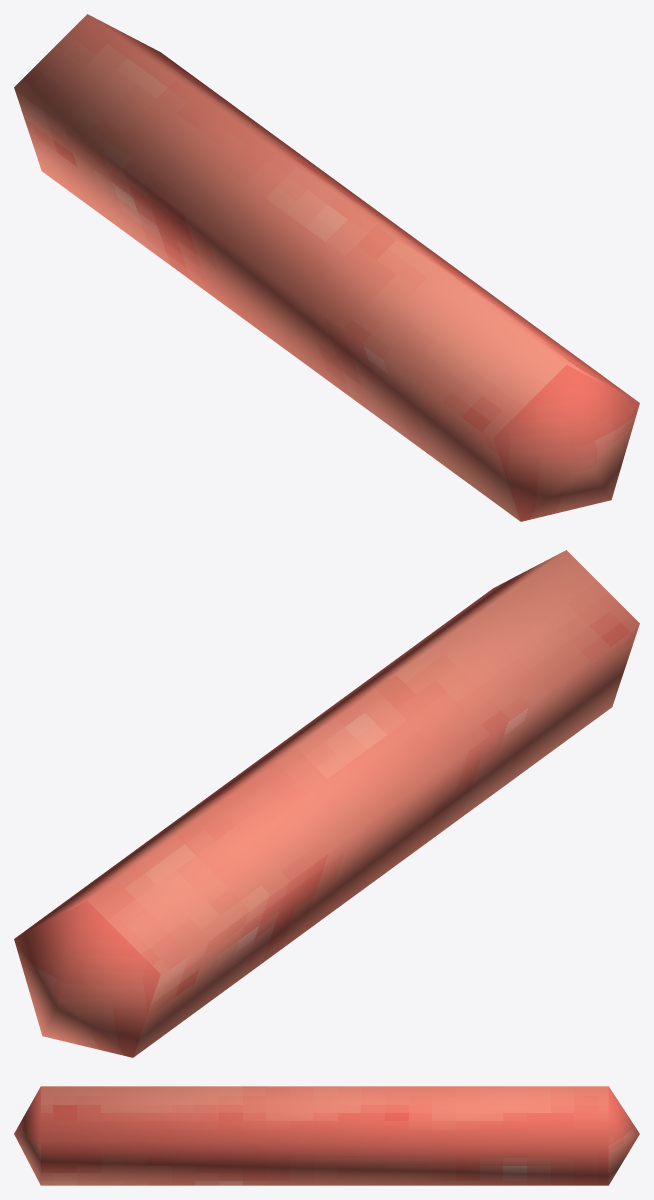
Rendered from Sausages.fbx.
3 views of the same model, one above another, from view 1: azimuth 30°, elevation 25°; view 2: azimuth 150°, elevation 25°; view 3: azimuth 270°, elevation 25° (orthographic). The views are drawn at different scales.
Visible parts, largest first — view 1: HotDog; view 2: HotDog; view 3: HotDog.
Boxes of the visible parts, x1,y1,x2,y2 form: HotDog: (14,14,639,521); HotDog: (14,550,639,1057); HotDog: (14,1086,639,1185).
Size of the model in its own units: 7.26 by 6.91 by 45.23.
